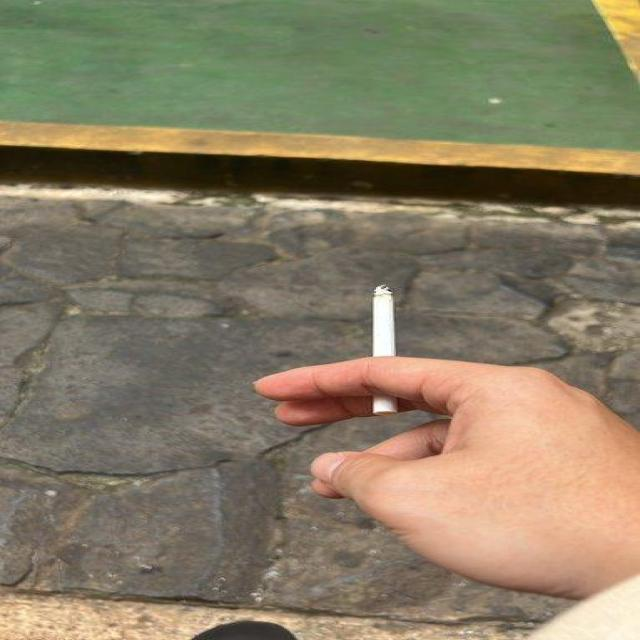rokok: (365, 282, 401, 416)
